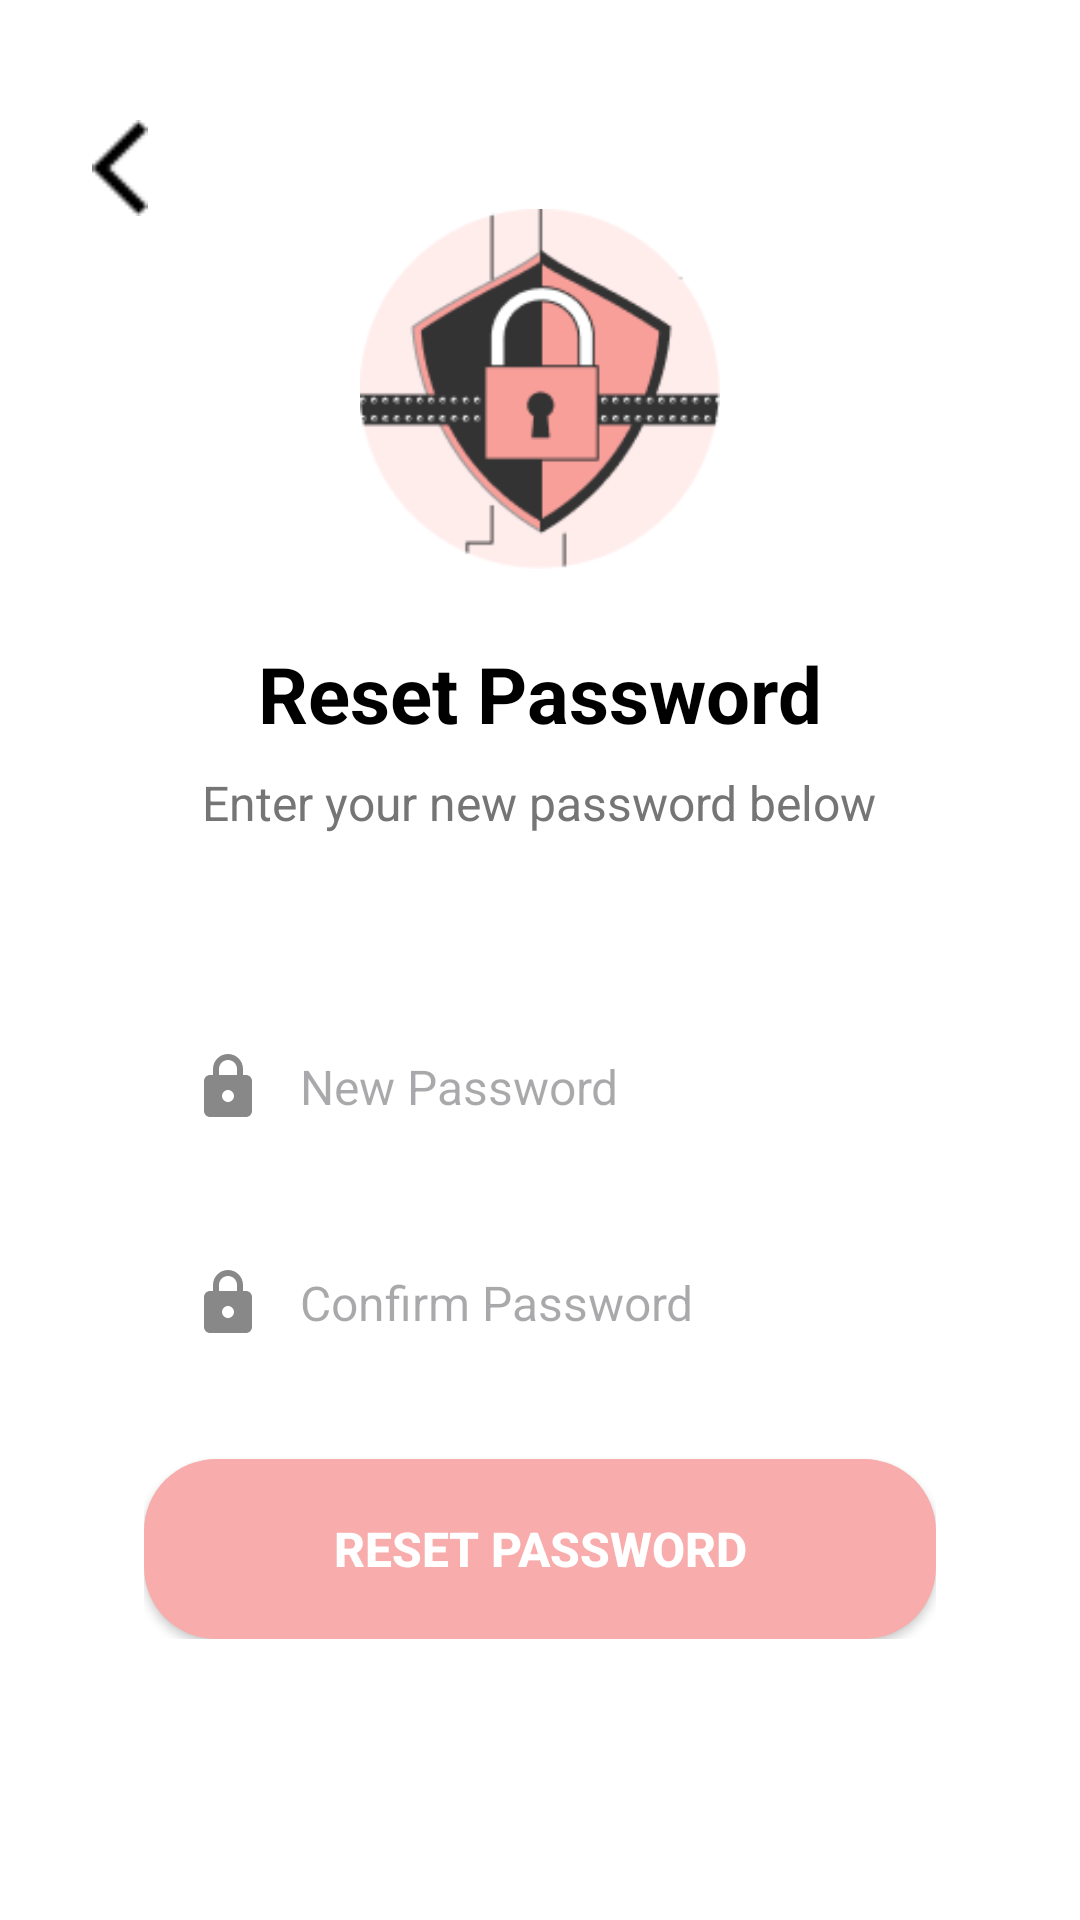

Named icons in this screenshot (1080×1920) and their centers, (x=x, y=y):
Back: (x=120, y=168)
